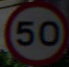Speed limit: (5, 3, 59, 57)
